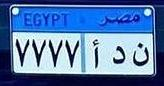7: (64, 37, 80, 69), (31, 37, 47, 68), (47, 37, 62, 70), (15, 36, 29, 69)
alif: (91, 37, 101, 72)
daal: (111, 44, 127, 66)
noon: (131, 41, 150, 70)
